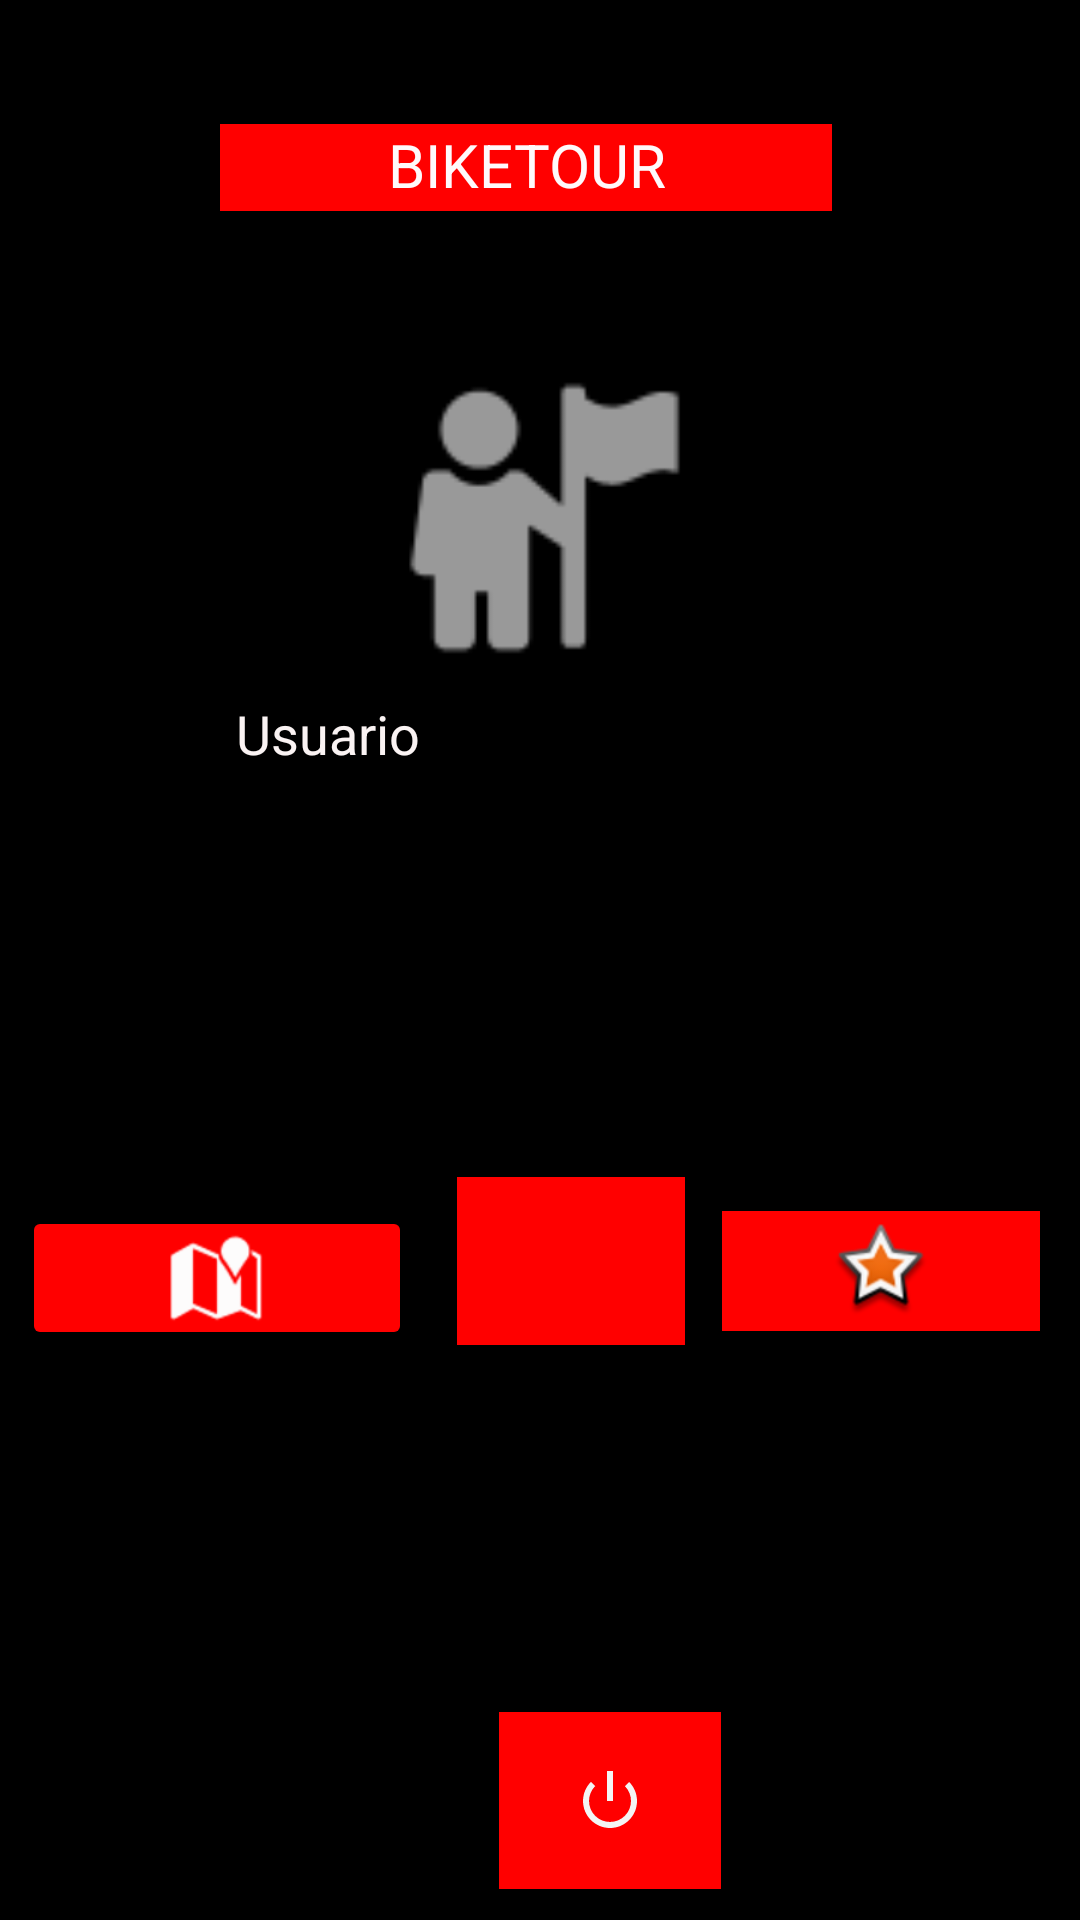

Where to tap for icons on this 1080×1920 app screen, as point (x, y):
lock power off: point (610, 1800)
myplaces: point (544, 518)
star on: point (881, 1271)
